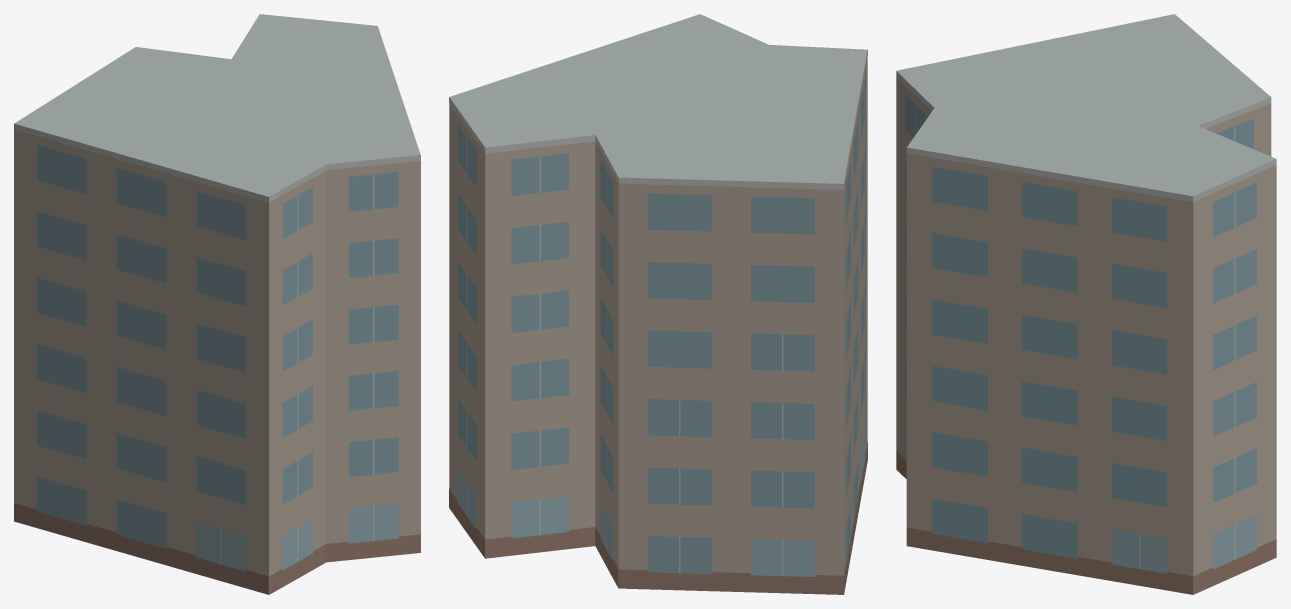
File: survey-upis-32727639.glb
3 renders of one model, left to right at view 1: azimuth 30°, elevation 25°; view 2: azimuth 150°, elevation 25°; view 3: azimuth 270°, elevation 25°, orthographic. The views are drawn at different scales.
Visible parts, largest first — view 1: survey-upis-32727639.tmp; view 2: survey-upis-32727639.tmp; view 3: survey-upis-32727639.tmp.
Boxes of the visible parts, x1,y1,x2,y2 form: survey-upis-32727639.tmp: [14, 14, 420, 594]; survey-upis-32727639.tmp: [449, 14, 867, 594]; survey-upis-32727639.tmp: [896, 14, 1276, 594].
Bounding box in the file's own units: 16.29 × 16.6 × 14.36.
